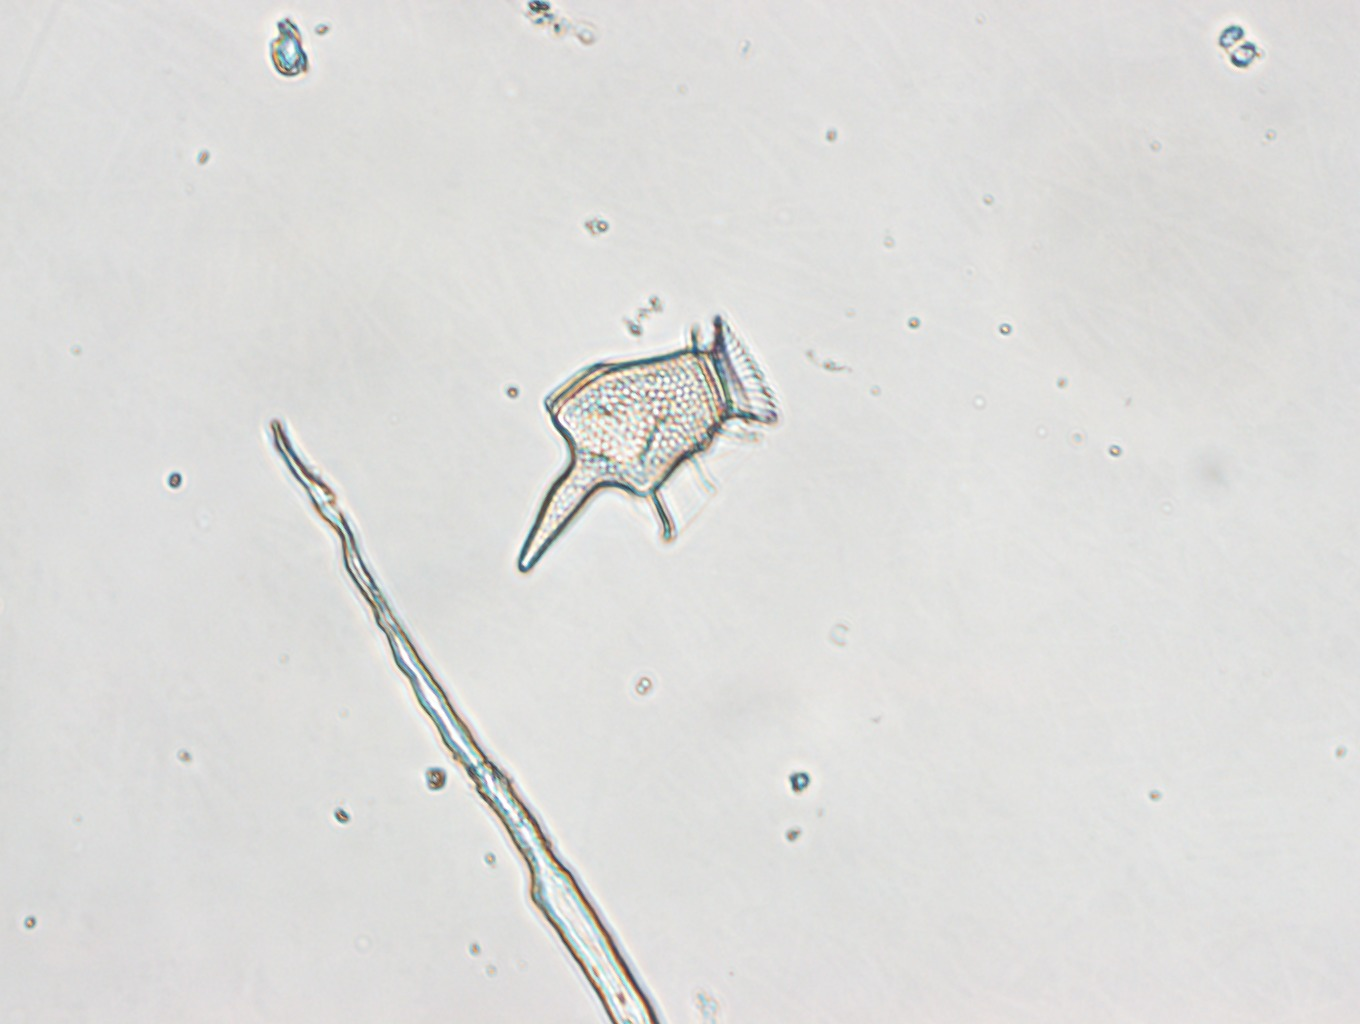dinophysis caudata: (516, 322, 788, 577)
